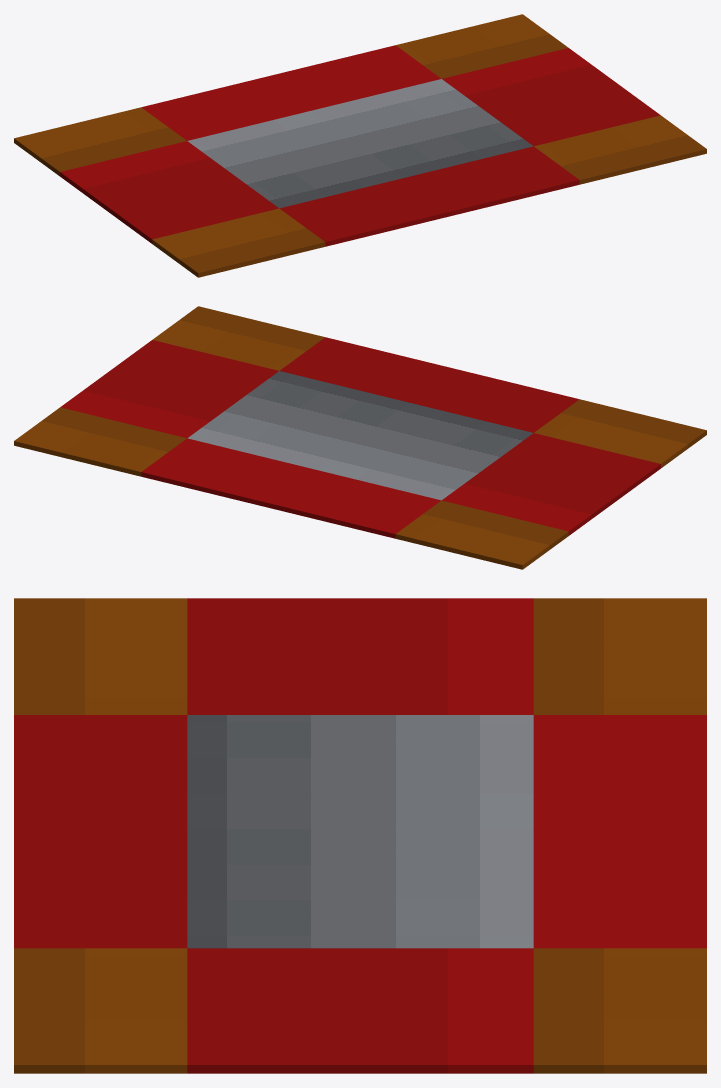
Rendered from Carpet.fbx.
3 views of the same model, one above another, from view 1: azimuth 30°, elevation 25°; view 2: azimuth 150°, elevation 25°; view 3: azimuth 270°, elevation 25° (orthographic). The views are drawn at different scales.
Parts seen in each view (by area): view 1: Carpet; view 2: Carpet; view 3: Carpet.
Part boxes in pixels (box(x1,y1,x2,y2)): Carpet: box(14, 14, 706, 277); Carpet: box(14, 306, 706, 569); Carpet: box(14, 598, 706, 1073).
Bounding box in the file's own units: 581 × 5.05 × 365.
